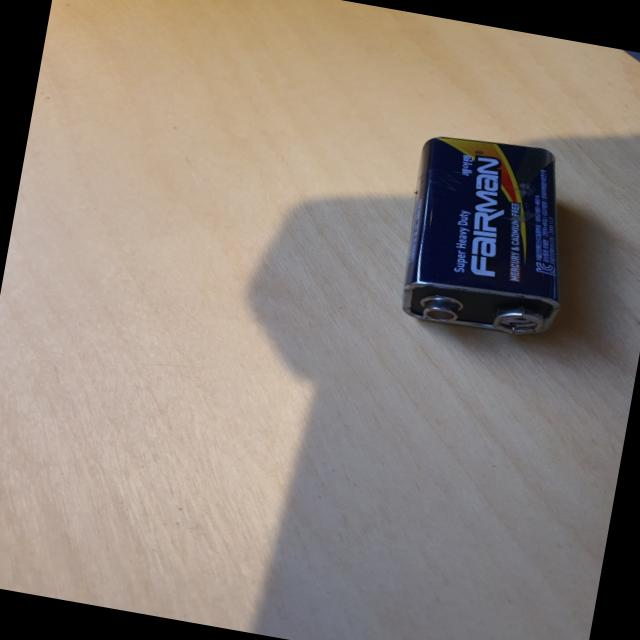battery-etc-etc: (377, 68, 636, 362)
